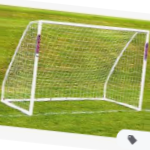goals: (1, 17, 150, 116)
